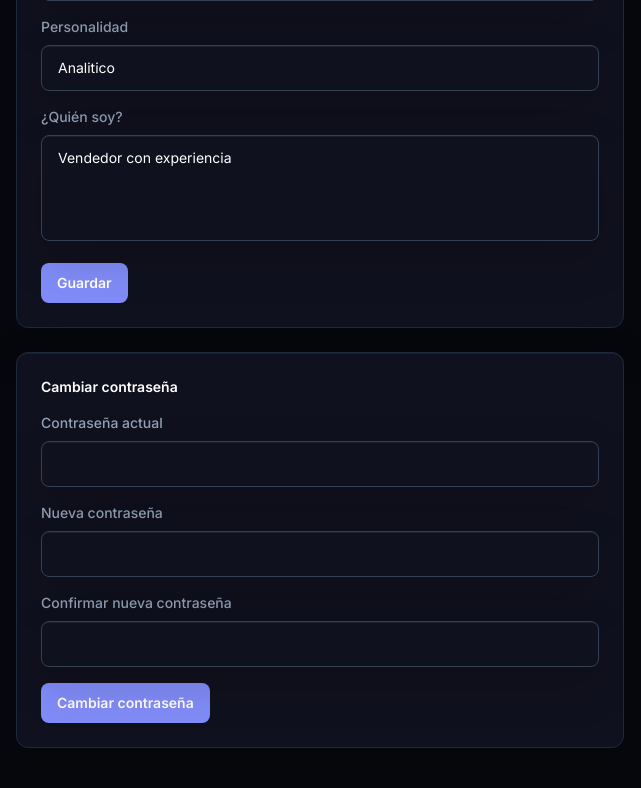
it: SettingsScreen › rejects a password change when the confirmation doesn't match
(page scrolled)
Type "OldPass123!" into the password field labelled "Contraseña actual".
click(320, 464); type("OldPass123!")  # box left=41, top=441, right=599, bottom=487
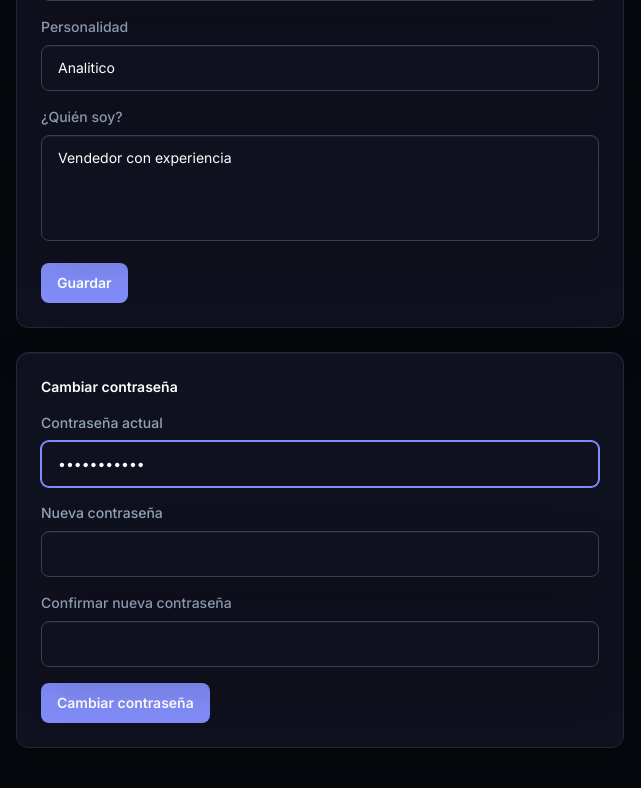
Type "NewPass123!" into the password field labelled "Nueva contraseña".
click(320, 554); type("NewPass123!")  # box left=41, top=531, right=599, bottom=577
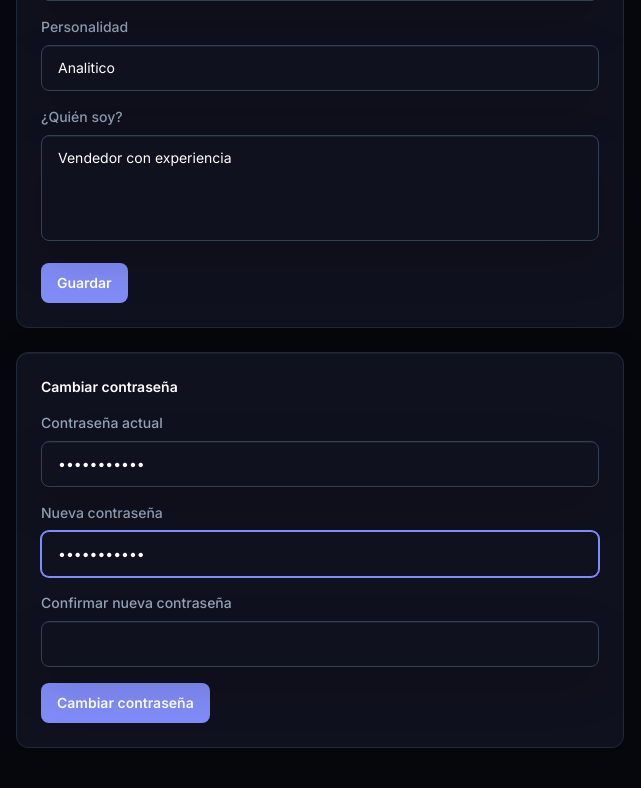
Type "Mismatch123!" into the password field labelled "Confirmar nueva contraseña".
click(320, 644); type("Mismatch123!")  # box left=41, top=621, right=599, bottom=667
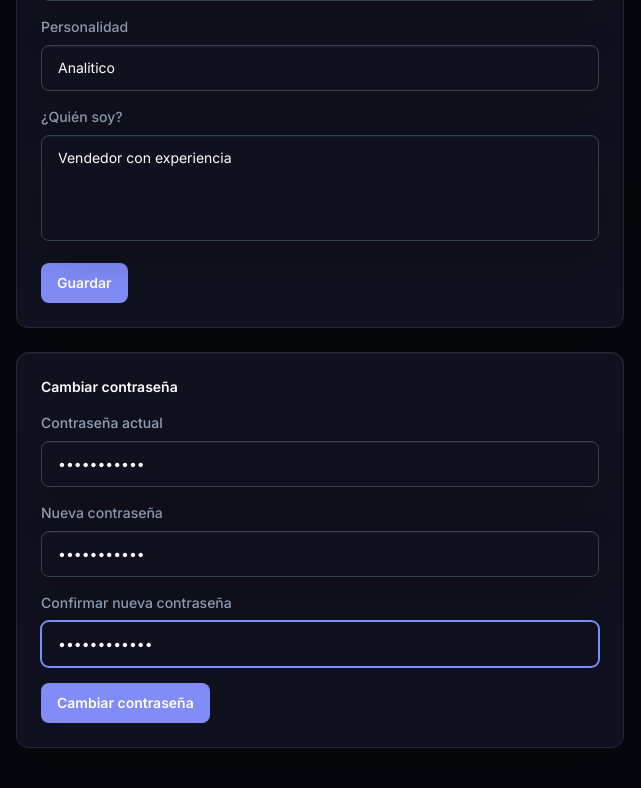
Click the button "Cambiar contraseña".
click(125, 703)  # box left=41, top=683, right=210, bottom=723
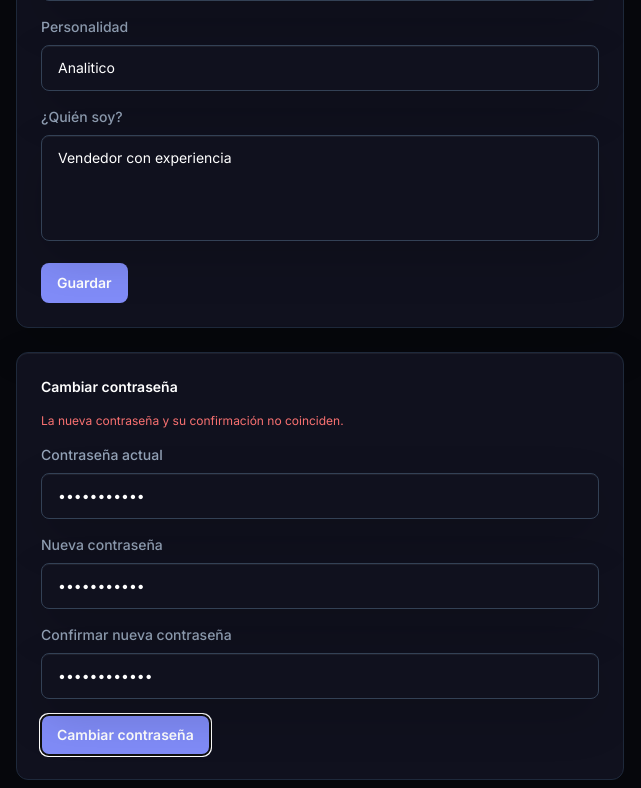
Expected: the text "La nueva contraseña y su confirmación no coinciden." is shown, left=41, top=413, right=344, bottom=428
